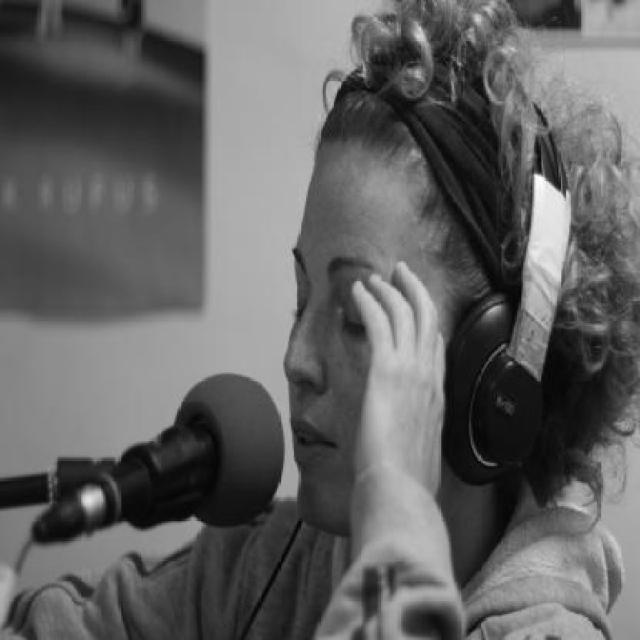earphone: (440, 35, 583, 508)
